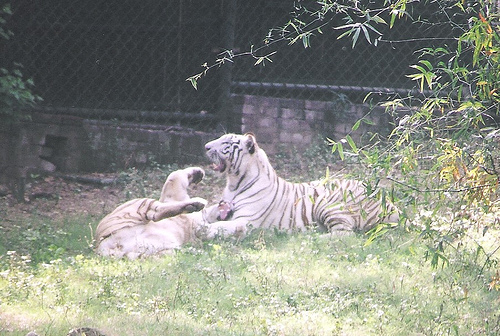Tigre: (198, 135, 401, 257)
